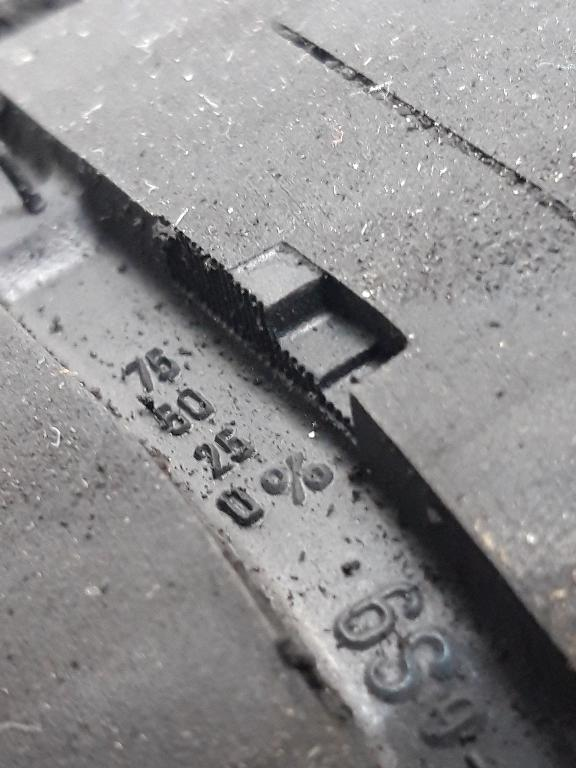temoin:50: (205, 232, 428, 468)
